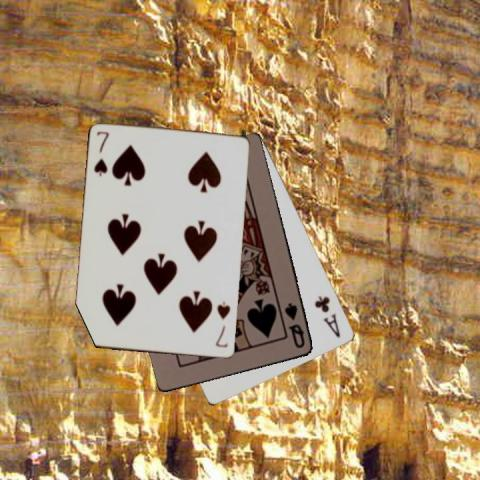7s: (91, 129, 111, 178), (213, 299, 232, 349)
Ac: (312, 293, 342, 339)
Qs: (281, 300, 307, 350)
